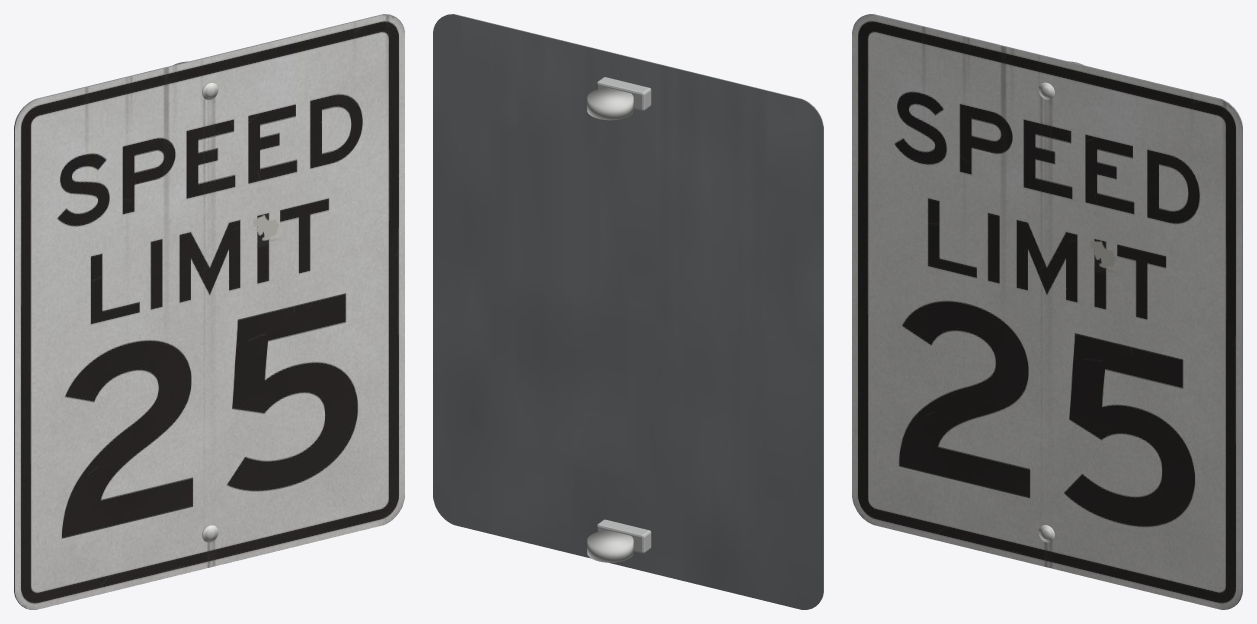
File: speedLimit-v1.glb
3 views of the same model, side by side, from view 1: azimuth 30°, elevation 25°; view 2: azimuth 150°, elevation 25°; view 3: azimuth 330°, elevation 25° (orthographic).
Parts seen in each view (by area): view 1: speedLimit-v1; view 2: speedLimit-v1; view 3: speedLimit-v1.
Boxes of the visible parts, left/top/right/bottom form: speedLimit-v1: left=14, top=14, right=404, bottom=609; speedLimit-v1: left=433, top=14, right=823, bottom=609; speedLimit-v1: left=852, top=14, right=1242, bottom=609.
Size of the model in its own units: 0.6096 by 0.7622 by 0.0871.
Materials: 1 (1 with a texture image).
